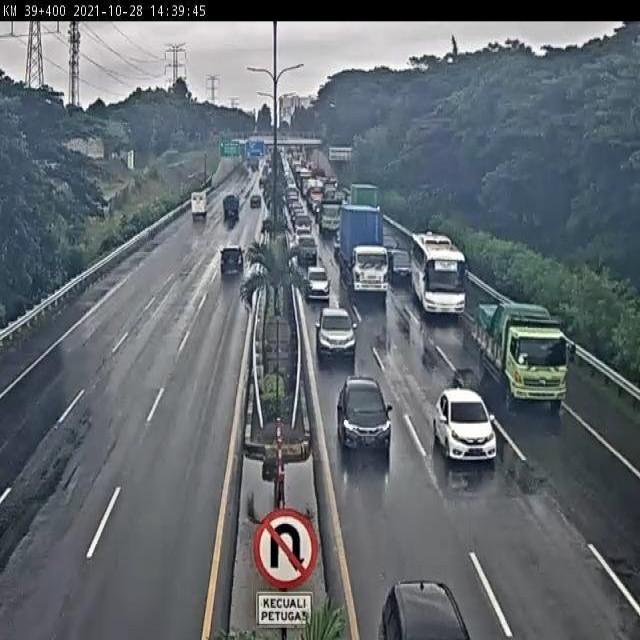big bus: (412, 228, 466, 311)
big truck: (335, 203, 388, 297)
car: (380, 582, 471, 640), (433, 390, 501, 462), (338, 376, 391, 448), (316, 308, 357, 355), (390, 244, 415, 279), (219, 244, 247, 275), (306, 265, 329, 299), (297, 236, 319, 263)
mid truck: (464, 289, 564, 402), (314, 199, 341, 233)
small truck: (190, 190, 208, 222), (221, 190, 239, 218)
